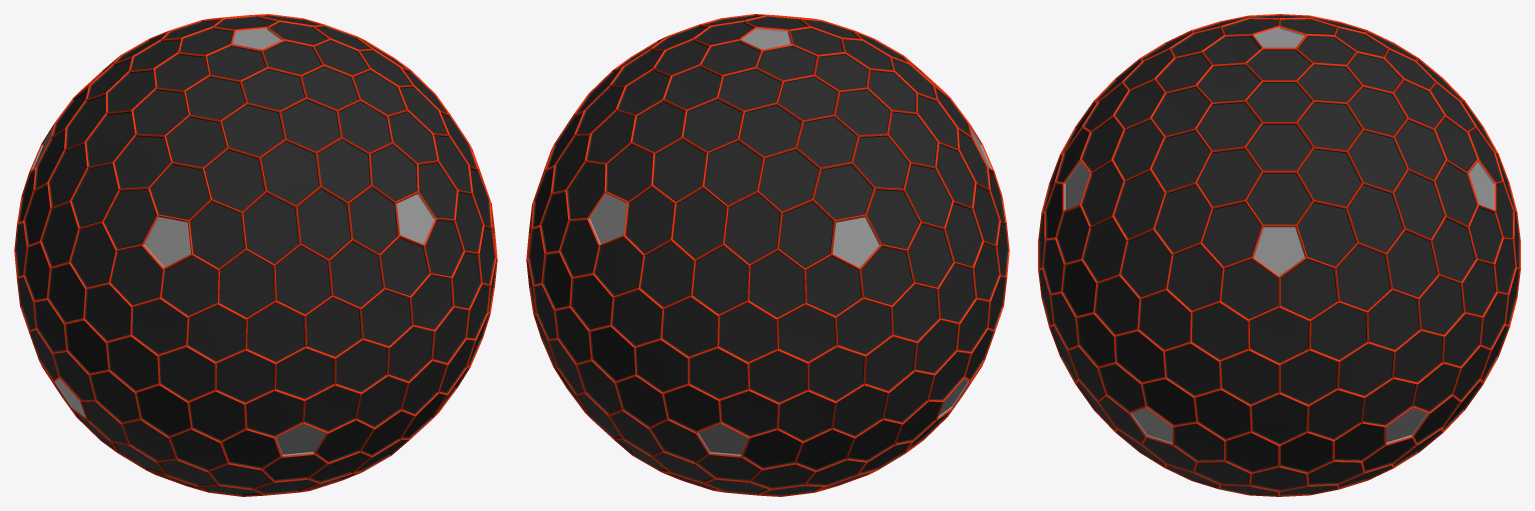
The model's file is HexSphere.FBX.
3 renders of one model, left to right at view 1: azimuth 30°, elevation 25°; view 2: azimuth 150°, elevation 25°; view 3: azimuth 270°, elevation 25°, orthographic.
Parts seen in each view (by area): view 1: GeoSphere001; view 2: GeoSphere001; view 3: GeoSphere001.
Boxes of the visible parts, x1,y1,x2,y2 form: GeoSphere001: [14, 14, 497, 496]; GeoSphere001: [526, 14, 1009, 496]; GeoSphere001: [1038, 14, 1520, 496].
Size of the model in its own units: 198 by 197 by 198.
